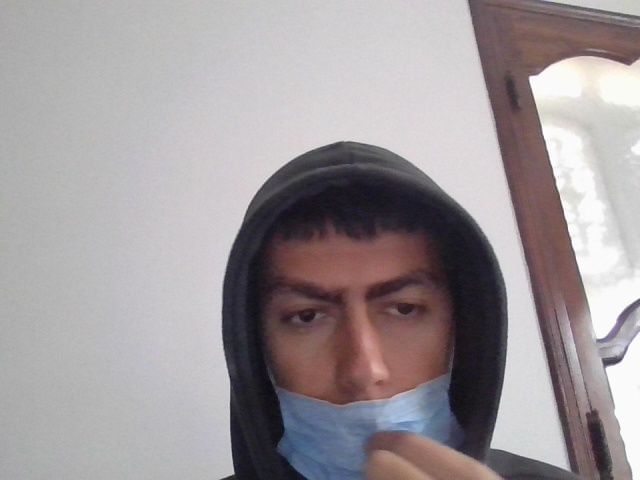mask_weared_incorrect: (241, 192, 461, 479)
